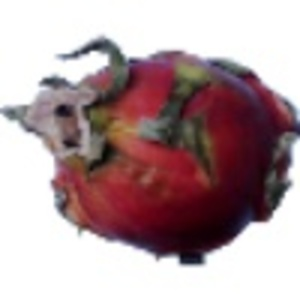pitaia: (1, 36, 300, 268)
